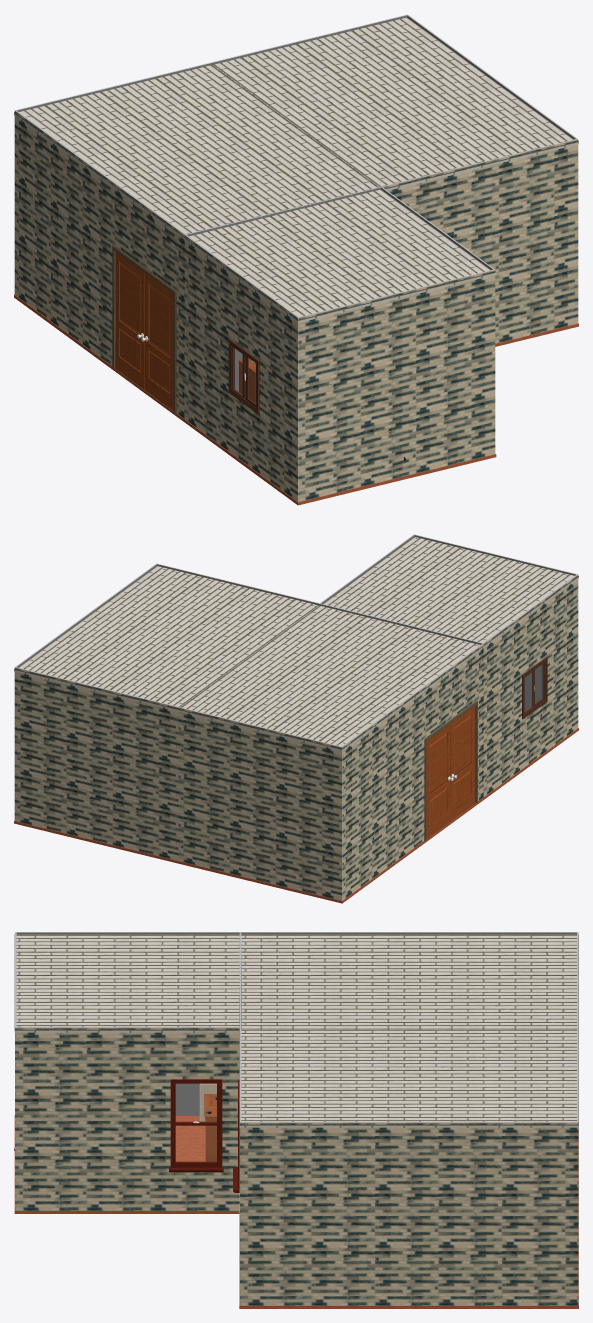
The model's file is ProcTHOR-Train-101.glb.
The picture shows the model from 3 angles, top to bottom: view 1: azimuth 30°, elevation 25°; view 2: azimuth 150°, elevation 25°; view 3: azimuth 270°, elevation 25°; orthographic projection. The views are drawn at different scales.
Parts seen in each view (by area): view 1: WallInside#wall|exterior|3.54|10.62|7.08|10.62, Ceiling#room|6|c, Ceiling#room|7|c, WallInside#wall|exterior|7.08|1.77|7.08|7.08, Ceiling#room|2|c, WallInside#wall|exterior|0.00|7.08|3.54|7.08, WallInside#wall|exterior|7.08|7.08|7.08|10.62, Doorway_Door_4b, Doorway_Door_4a, Floor#room|2|f, Window_Slider_36x36, Doorway_Double_4 (+2 smaller); view 2: WallInside#wall|exterior|0.00|1.77|3.54|1.77, WallInside#wall|exterior|3.54|1.77|7.08|1.77, Ceiling#room|7|c, Ceiling#room|6|c, WallInside#wall|exterior|7.08|1.77|7.08|7.08, Ceiling#room|2|c, WallInside#wall|exterior|7.08|7.08|7.08|10.62, Doorway_Door_4a, Doorway_Door_4b, Floor#room|7|f, WallInside#wall|2|3.54|10.62|7.08|10.62, Doorway_Double_4 (+2 smaller); view 3: WallInside#wall|exterior|0.00|1.77|0.00|7.08, WallInside#wall|exterior|3.54|7.08|3.54|10.62, Ceiling#room|6|c, Ceiling#room|7|c, Ceiling#room|2|c, Floor#room|2|f, Window_Hung_32x60, WallInside#wall|2|7.08|7.08|7.08|10.62, Floor#room|6|f, WallInside#wall|7|7.08|1.77|7.08|7.08, Desk_307_2_1.
Boxes of the visible parts, <box> form: WallInside#wall|exterior|3.54|10.62|7.08|10.62: <box>298,270,495,502</box>; Ceiling#room|6|c: <box>211,17,578,190</box>; Ceiling#room|7|c: <box>14,65,378,238</box>; WallInside#wall|exterior|7.08|1.77|7.08|7.08: <box>14,110,184,418</box>; Ceiling#room|2|c: <box>183,189,496,322</box>; WallInside#wall|exterior|0.00|7.08|3.54|7.08: <box>381,139,578,343</box>; WallInside#wall|exterior|7.08|7.08|7.08|10.62: <box>184,234,298,501</box>; Doorway_Door_4b: <box>115,252,144,389</box>; Doorway_Door_4a: <box>145,273,173,410</box>; Floor#room|2|f: <box>184,419,496,505</box>; Window_Slider_36x36: <box>228,339,259,413</box>; Doorway_Double_4: <box>112,245,176,413</box>; WallInside#wall|exterior|0.00|1.77|3.54|1.77: <box>14,667,178,860</box>; WallInside#wall|exterior|3.54|1.77|7.08|1.77: <box>178,707,341,900</box>; Ceiling#room|7|c: <box>177,605,483,751</box>; Ceiling#room|6|c: <box>14,566,319,711</box>; WallInside#wall|exterior|7.08|1.77|7.08|7.08: <box>342,643,483,900</box>; Ceiling#room|2|c: <box>323,537,578,647</box>; WallInside#wall|exterior|7.08|7.08|7.08|10.62: <box>483,574,578,796</box>; Doorway_Door_4a: <box>450,706,475,820</box>; Doorway_Door_4b: <box>426,724,450,838</box>; Floor#room|7|f: <box>177,797,483,903</box>; WallInside#wall|2|3.54|10.62|7.08|10.62: <box>414,535,577,711</box>; Doorway_Double_4: <box>424,700,477,840</box>; WallInside#wall|exterior|0.00|1.77|0.00|7.08: <box>240,1122,578,1305</box>; WallInside#wall|exterior|3.54|7.08|3.54|10.62: <box>15,1027,239,1210</box>; Ceiling#room|6|c: <box>239,1029,578,1127</box>; Ceiling#room|7|c: <box>239,934,578,1029</box>; Ceiling#room|2|c: <box>14,934,241,1032</box>; Floor#room|2|f: <box>14,1115,239,1213</box>; Window_Hung_32x60: <box>169,1079,223,1172</box>; WallInside#wall|2|7.08|7.08|7.08|10.62: <box>15,932,240,1115</box>; Floor#room|6|f: <box>239,1210,578,1308</box>; WallInside#wall|7|7.08|1.77|7.08|7.08: <box>241,932,577,934</box>; Desk_307_2_1: <box>204,1094,216,1161</box>.
Size of what is drawn, in the model's own units: 7.2 by 3.23 by 8.9.
Materials: 227 (117 with a texture image).
